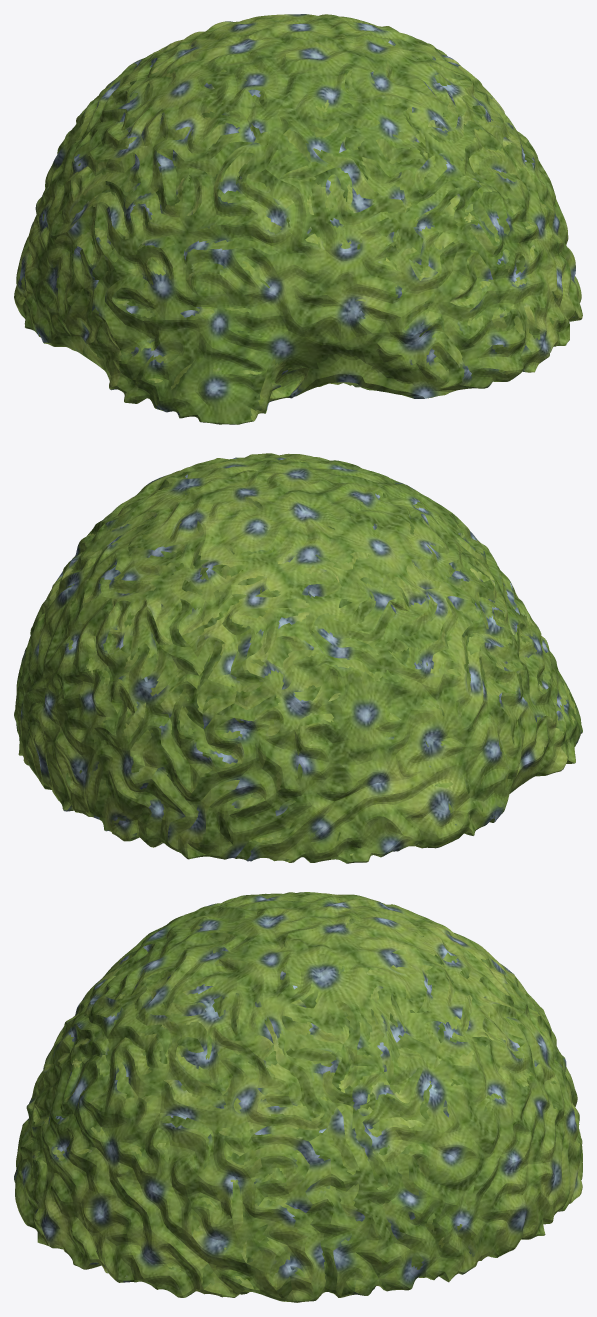
File: coralBoulder.glb
The picture shows the model from 3 angles, top to bottom: view 1: azimuth 30°, elevation 25°; view 2: azimuth 150°, elevation 25°; view 3: azimuth 270°, elevation 25°; orthographic projection. The views are drawn at different scales.
Visible parts, largest first — view 1: coral_5_top_watertight_small; view 2: coral_5_top_watertight_small; view 3: coral_5_top_watertight_small.
Boxes of the visible parts, <box> form: coral_5_top_watertight_small: <box>14,14,582,424</box>; coral_5_top_watertight_small: <box>14,453,582,863</box>; coral_5_top_watertight_small: <box>14,892,582,1302</box>.
Bounding box in the file's own units: 179 × 96.03 × 182.
1 material, 1 textured.
